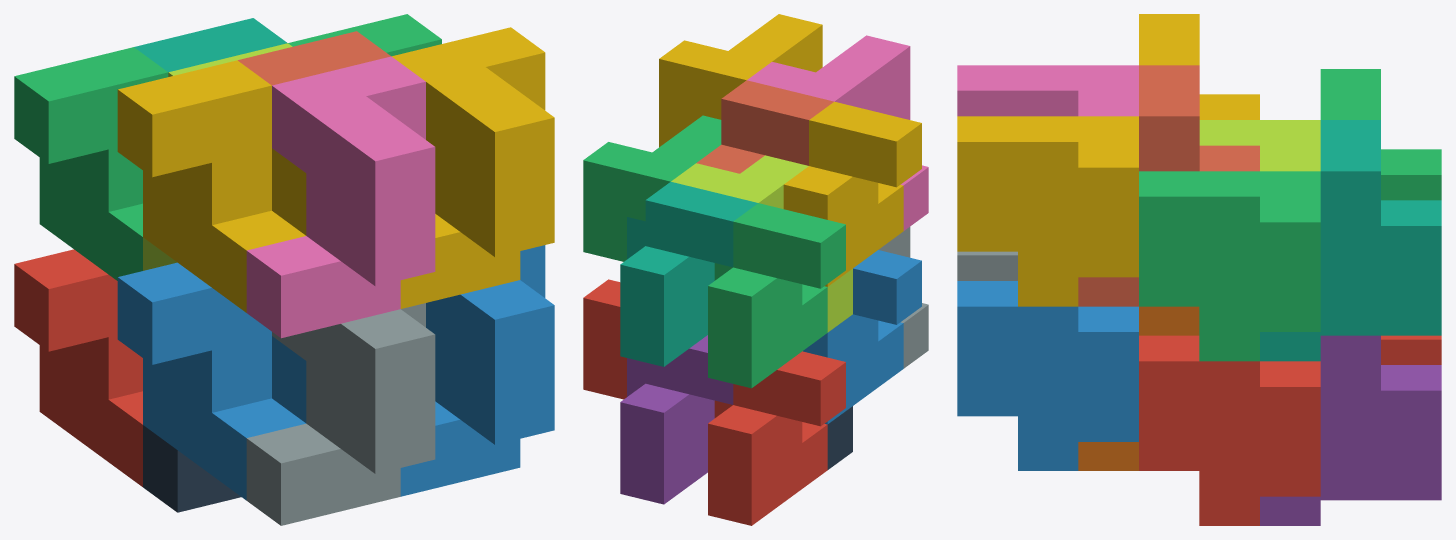
The model's file is tiling.obj.
The picture shows the model from 3 angles, left to right: view 1: azimuth 30°, elevation 25°; view 2: azimuth 150°, elevation 25°; view 3: azimuth 270°, elevation 25°; orthographic projection. The views are drawn at different scales.
Visible parts, largest first — view 1: copy_2_domain_4, copy_2_domain_8, copy_1_domain_4, copy_2_domain_2, copy_1_domain_2, copy_2_domain_6, copy_1_domain_3, copy_1_domain_1, copy_2_domain_1, copy_1_domain_8, copy_1_domain_7, copy_2_domain_7 (+1 smaller); view 2: copy_1_domain_3, copy_1_domain_1, copy_1_domain_7, copy_1_domain_4, copy_1_domain_5, copy_2_domain_8, copy_1_domain_2, copy_2_domain_7, copy_2_domain_4, copy_1_domain_8, copy_2_domain_3, copy_2_domain_5 (+2 smaller); view 3: copy_2_domain_8, copy_2_domain_7, copy_2_domain_5, copy_2_domain_6, copy_1_domain_7, copy_1_domain_5, copy_1_domain_8, copy_2_domain_4, copy_1_domain_3, copy_1_domain_4, copy_2_domain_3, copy_1_domain_6 (+2 smaller).
Boxes of the visible parts, x1=… form: copy_2_domain_4: x1=246, y1=56, x2=435, y2=338; copy_2_domain_8: x1=392, y1=27, x2=554, y2=308; copy_1_domain_4: x1=117, y1=60, x2=306, y2=312; copy_2_domain_2: x1=246, y1=303, x2=435, y2=525; copy_1_domain_2: x1=117, y1=262, x2=306, y2=500; copy_2_domain_6: x1=400, y1=245, x2=554, y2=496; copy_1_domain_3: x1=14, y1=47, x2=168, y2=280; copy_1_domain_1: x1=14, y1=249, x2=142, y2=486; copy_2_domain_1: x1=143, y1=425, x2=241, y2=512; copy_1_domain_8: x1=238, y1=31, x2=390, y2=85; copy_1_domain_7: x1=134, y1=18, x2=287, y2=72; copy_2_domain_7: x1=288, y1=14, x2=441, y2=56; copy_1_domain_3: x1=708, y1=203, x2=845, y2=388; copy_1_domain_1: x1=708, y1=351, x2=845, y2=525; copy_1_domain_7: x1=620, y1=182, x2=757, y2=366; copy_1_domain_4: x1=783, y1=101, x2=921, y2=286; copy_1_domain_5: x1=620, y1=335, x2=733, y2=504; copy_2_domain_8: x1=659, y1=14, x2=822, y2=147; copy_1_domain_2: x1=803, y1=250, x2=921, y2=424; copy_2_domain_7: x1=583, y1=115, x2=721, y2=261; copy_2_domain_4: x1=747, y1=35, x2=928, y2=230; copy_1_domain_8: x1=696, y1=80, x2=833, y2=173; copy_2_domain_3: x1=671, y1=155, x2=852, y2=332; copy_2_domain_5: x1=583, y1=279, x2=626, y2=399; copy_2_domain_8: x1=957, y1=116, x2=1138, y2=306; copy_2_domain_7: x1=1139, y1=171, x2=1320, y2=361; copy_2_domain_5: x1=1139, y1=335, x2=1320, y2=525; copy_2_domain_6: x1=957, y1=281, x2=1138, y2=470; copy_1_domain_7: x1=1260, y1=120, x2=1441, y2=361; copy_1_domain_5: x1=1260, y1=335, x2=1441, y2=525; copy_1_domain_8: x1=1078, y1=65, x2=1259, y2=306; copy_2_domain_4: x1=957, y1=65, x2=1138, y2=116; copy_1_domain_3: x1=1320, y1=69, x2=1441, y2=200; copy_1_domain_4: x1=1139, y1=14, x2=1259, y2=119; copy_2_domain_3: x1=1199, y1=120, x2=1320, y2=171; copy_1_domain_6: x1=1078, y1=306, x2=1199, y2=470.
Size of the model in its own units: 6 by 7 by 8.
